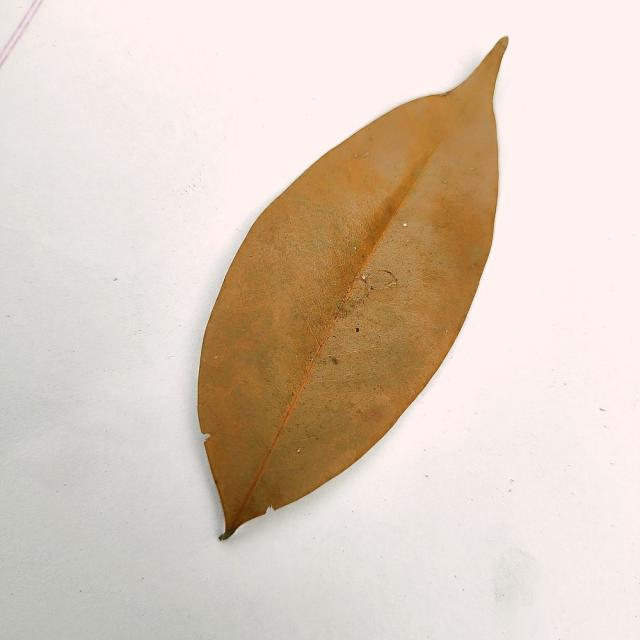Dry_Leaf-Lychee: (195, 39, 509, 540)
